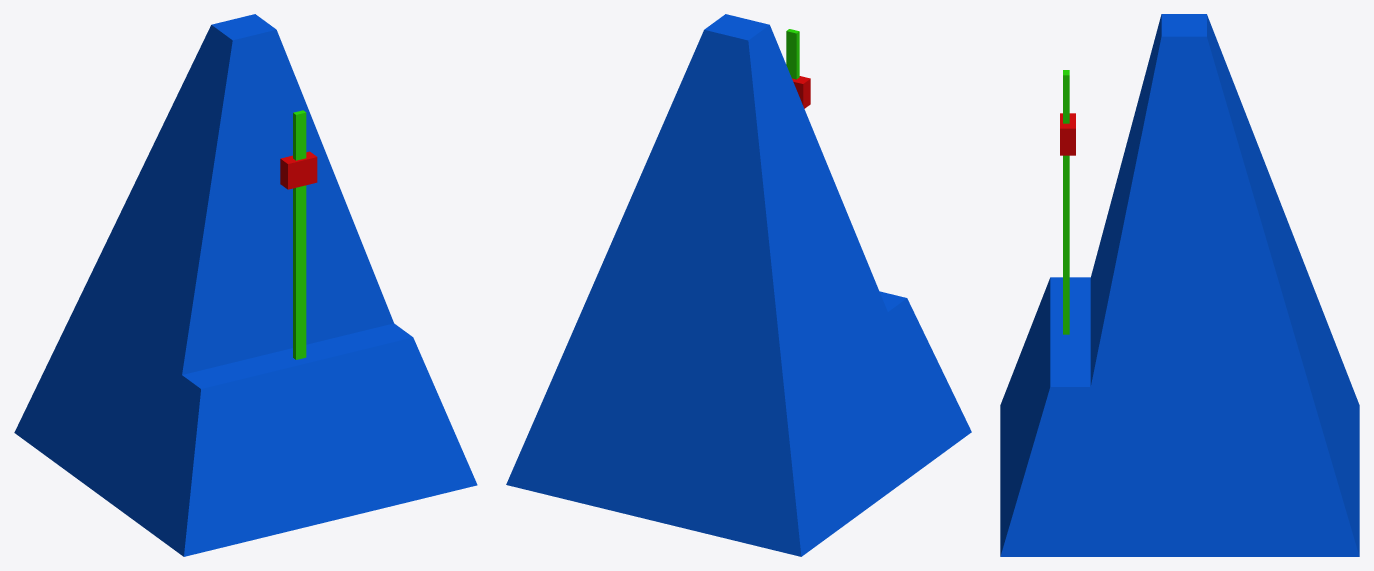
Rendered from metronome.glb.
3 renders of one model, left to right at view 1: azimuth 30°, elevation 25°; view 2: azimuth 150°, elevation 25°; view 3: azimuth 270°, elevation 25°, orthographic. The views are drawn at different scales.
Parts seen in each view (by area): view 1: Case, PendulumBar, PendulumWeight; view 2: Case, PendulumBar; view 3: Case, PendulumBar, PendulumWeight.
Part boxes in pixels (<box>): Case: <box>14,14,477,556</box>; PendulumBar: <box>293,110,306,359</box>; PendulumWeight: <box>280,151,317,189</box>; Case: <box>506,14,971,556</box>; PendulumBar: <box>786,29,799,79</box>; Case: <box>1000,14,1359,556</box>; PendulumBar: <box>1063,70,1069,334</box>; PendulumWeight: <box>1060,113,1075,155</box>.
Size of what is drawn, in the model's own units: 2 by 2.8 by 2.
